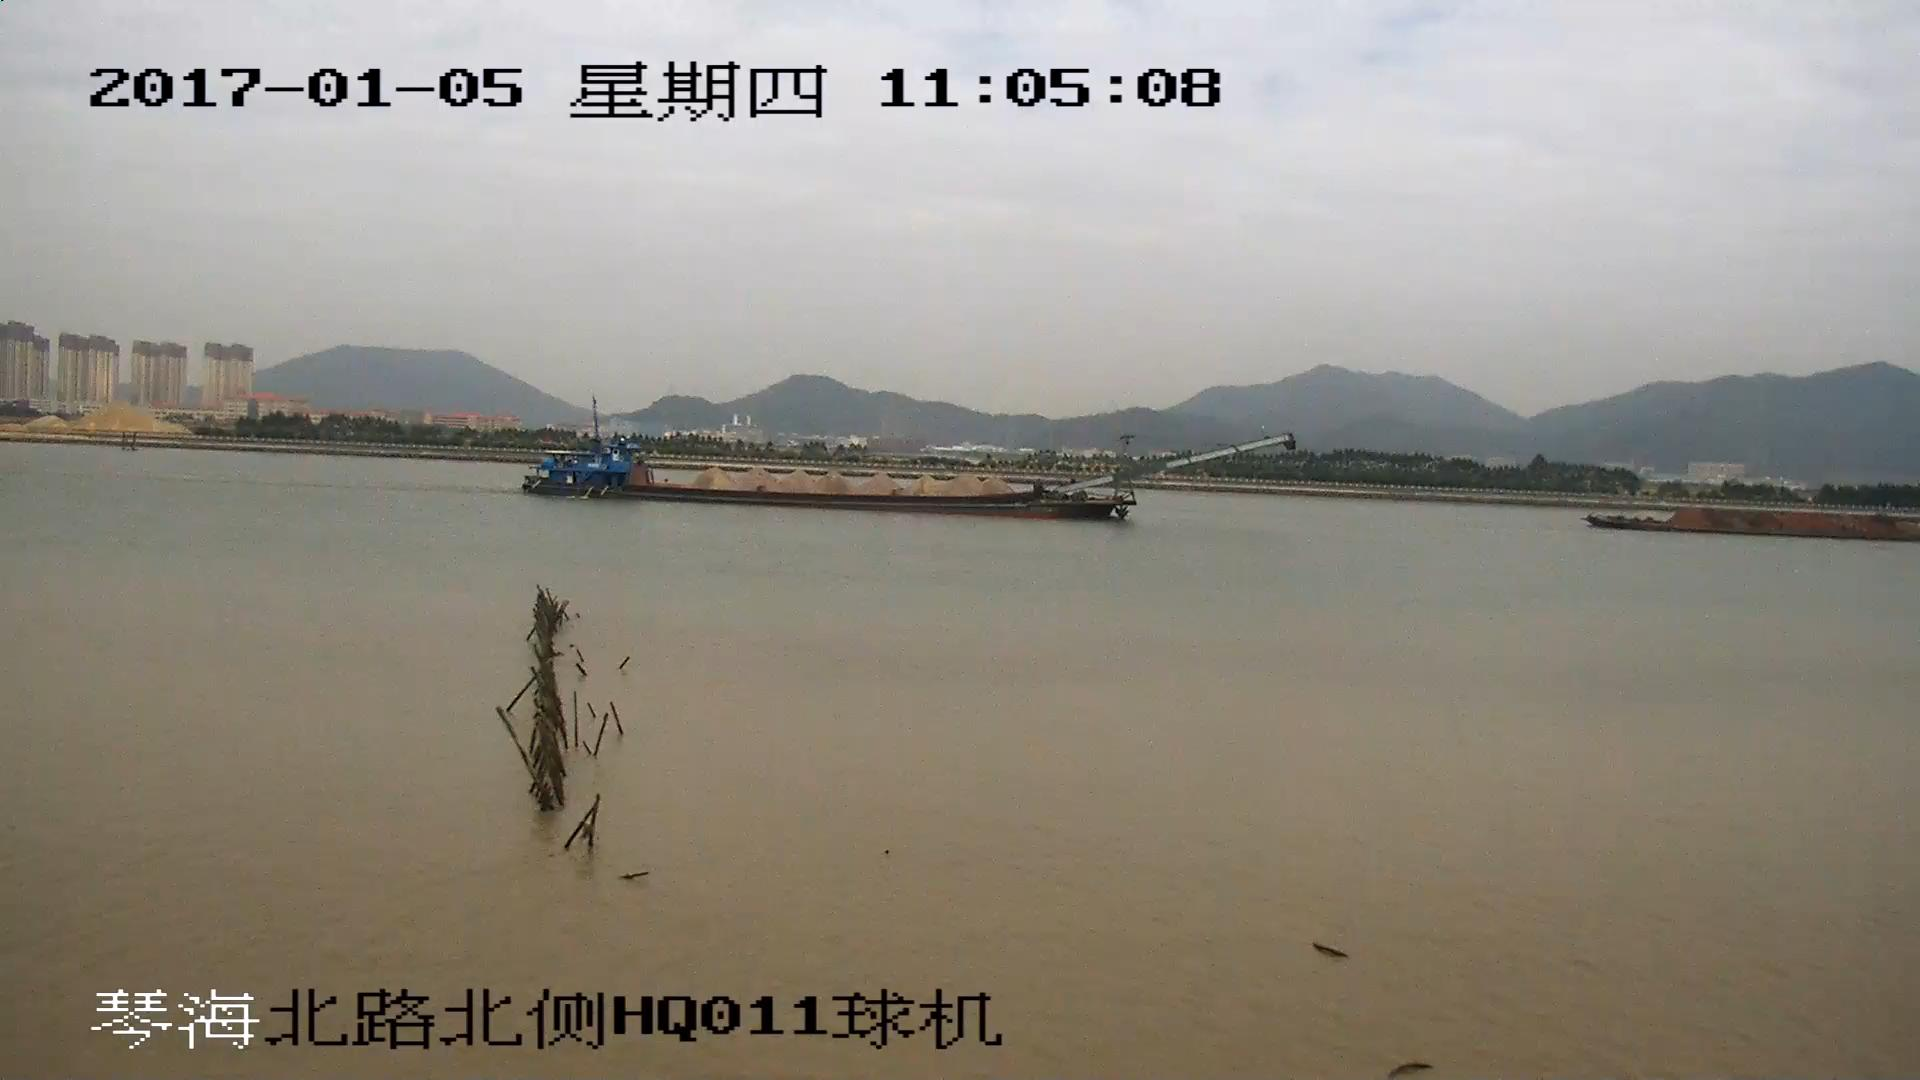ore carrier: (526, 438, 1288, 526), (1592, 504, 1920, 545)
